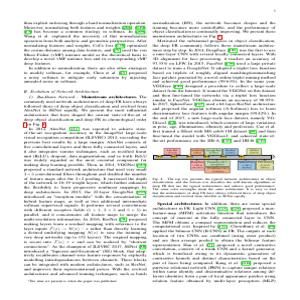diagram: (152, 147, 279, 175)
text: (21, 20, 149, 278), (151, 20, 278, 146), (150, 176, 279, 284)
